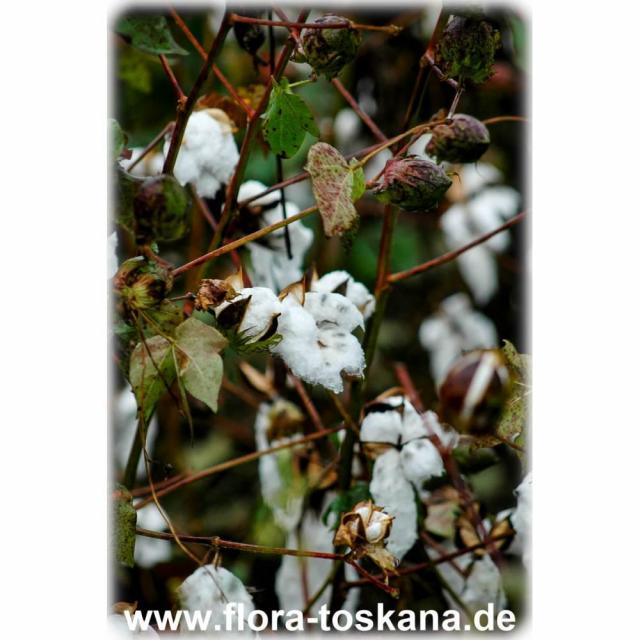Early_blight: (279, 292, 368, 394), (358, 406, 450, 484), (178, 111, 239, 200), (210, 282, 282, 348), (340, 502, 395, 551)
